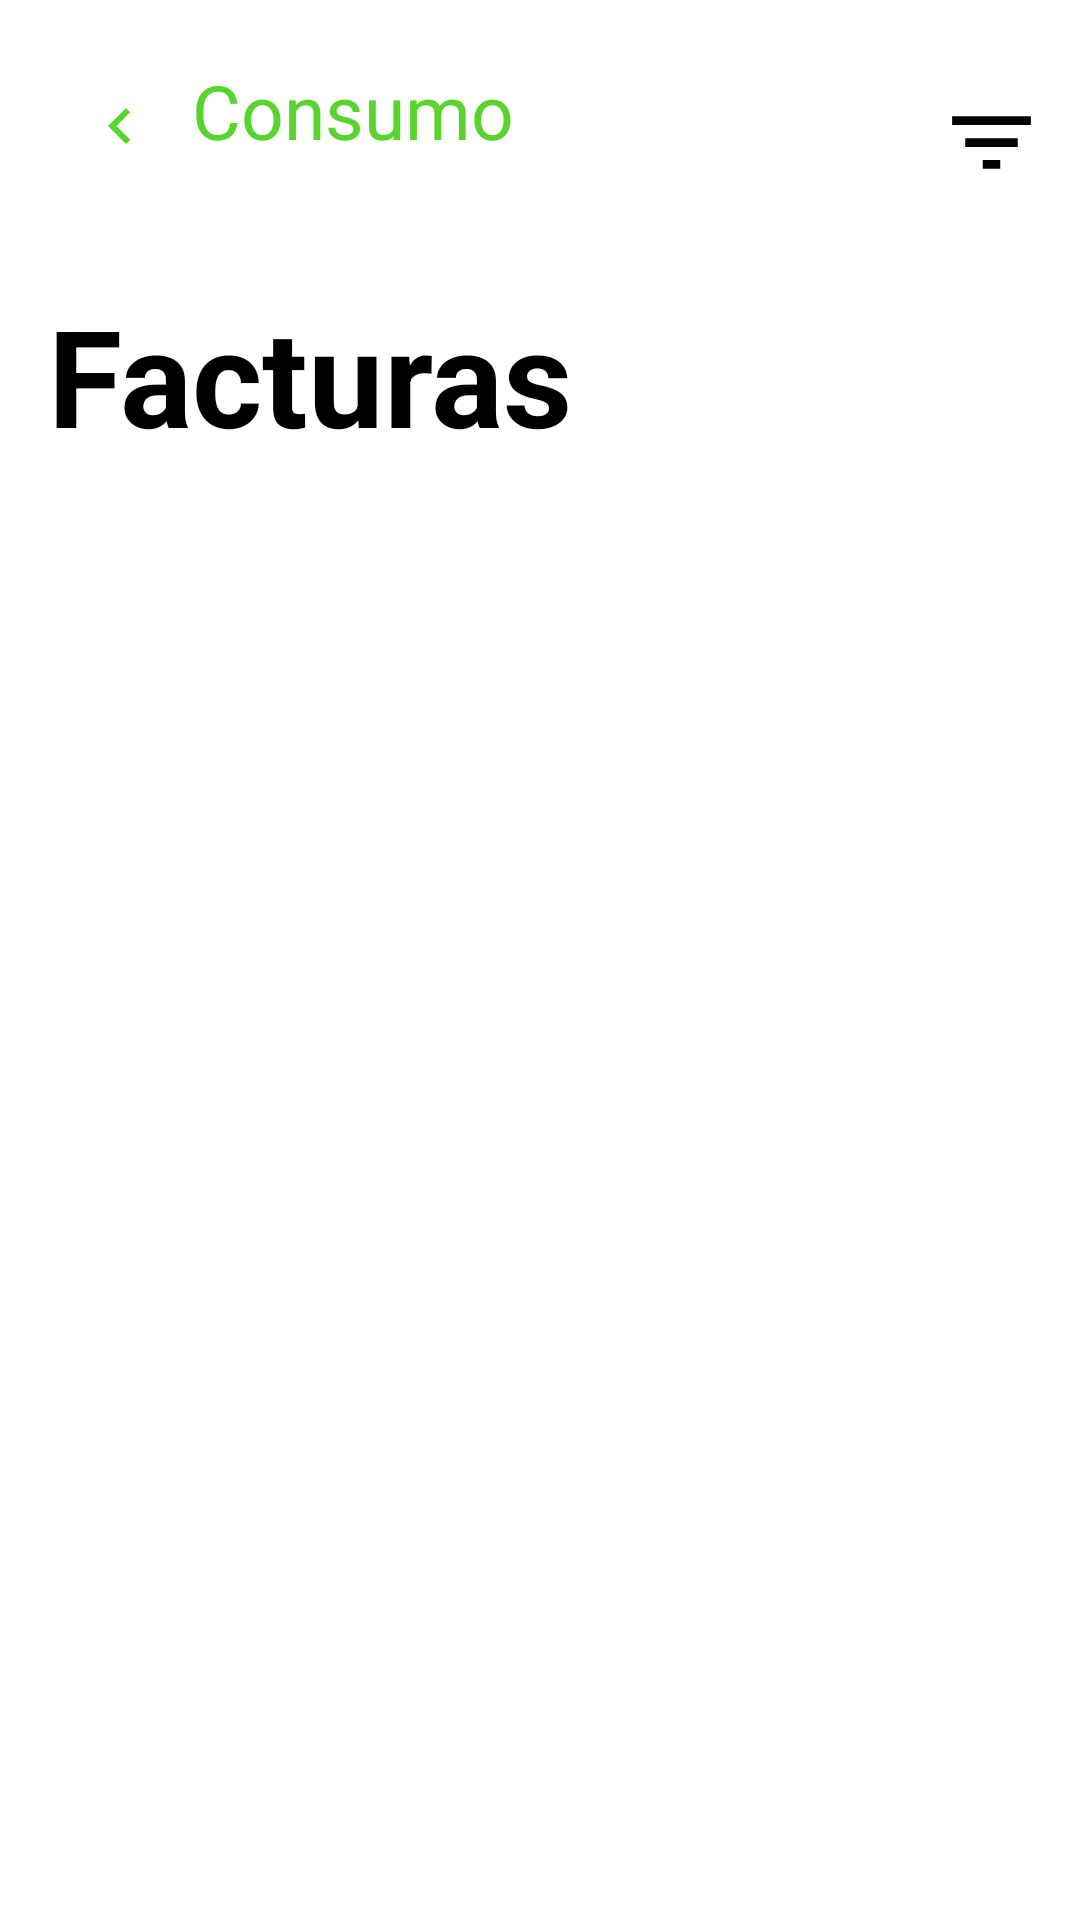

Where icons sit on this 1080w x 1920h app screen, as (x1, y1, x2, y2):
before: (108, 108, 130, 144)
filtrar: (952, 116, 1031, 169)
